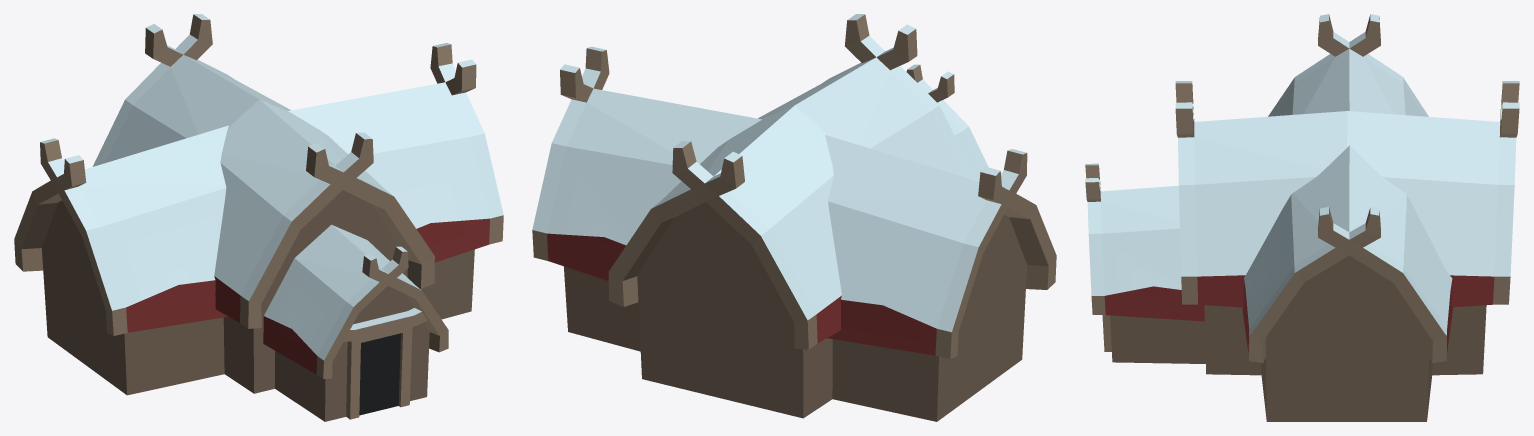
The model's file is SM_Bld_Viking_House_03_Snow.fbx.
3 views of the same model, side by side, from view 1: azimuth 30°, elevation 25°; view 2: azimuth 150°, elevation 25°; view 3: azimuth 270°, elevation 25° (orthographic). The views are drawn at different scales.
Parts seen in each view (by area): view 1: SM_Bld_Viking_House_03_Snow; view 2: SM_Bld_Viking_House_03_Snow; view 3: SM_Bld_Viking_House_03_Snow.
Part boxes in pixels (left/top/right/bottom): SM_Bld_Viking_House_03_Snow: left=14, top=14, right=503, bottom=421; SM_Bld_Viking_House_03_Snow: left=532, top=14, right=1056, bottom=421; SM_Bld_Viking_House_03_Snow: left=1085, top=14, right=1519, bottom=421.
Size of the model in its own units: 183 by 104 by 168.
1 material, 1 textured.
